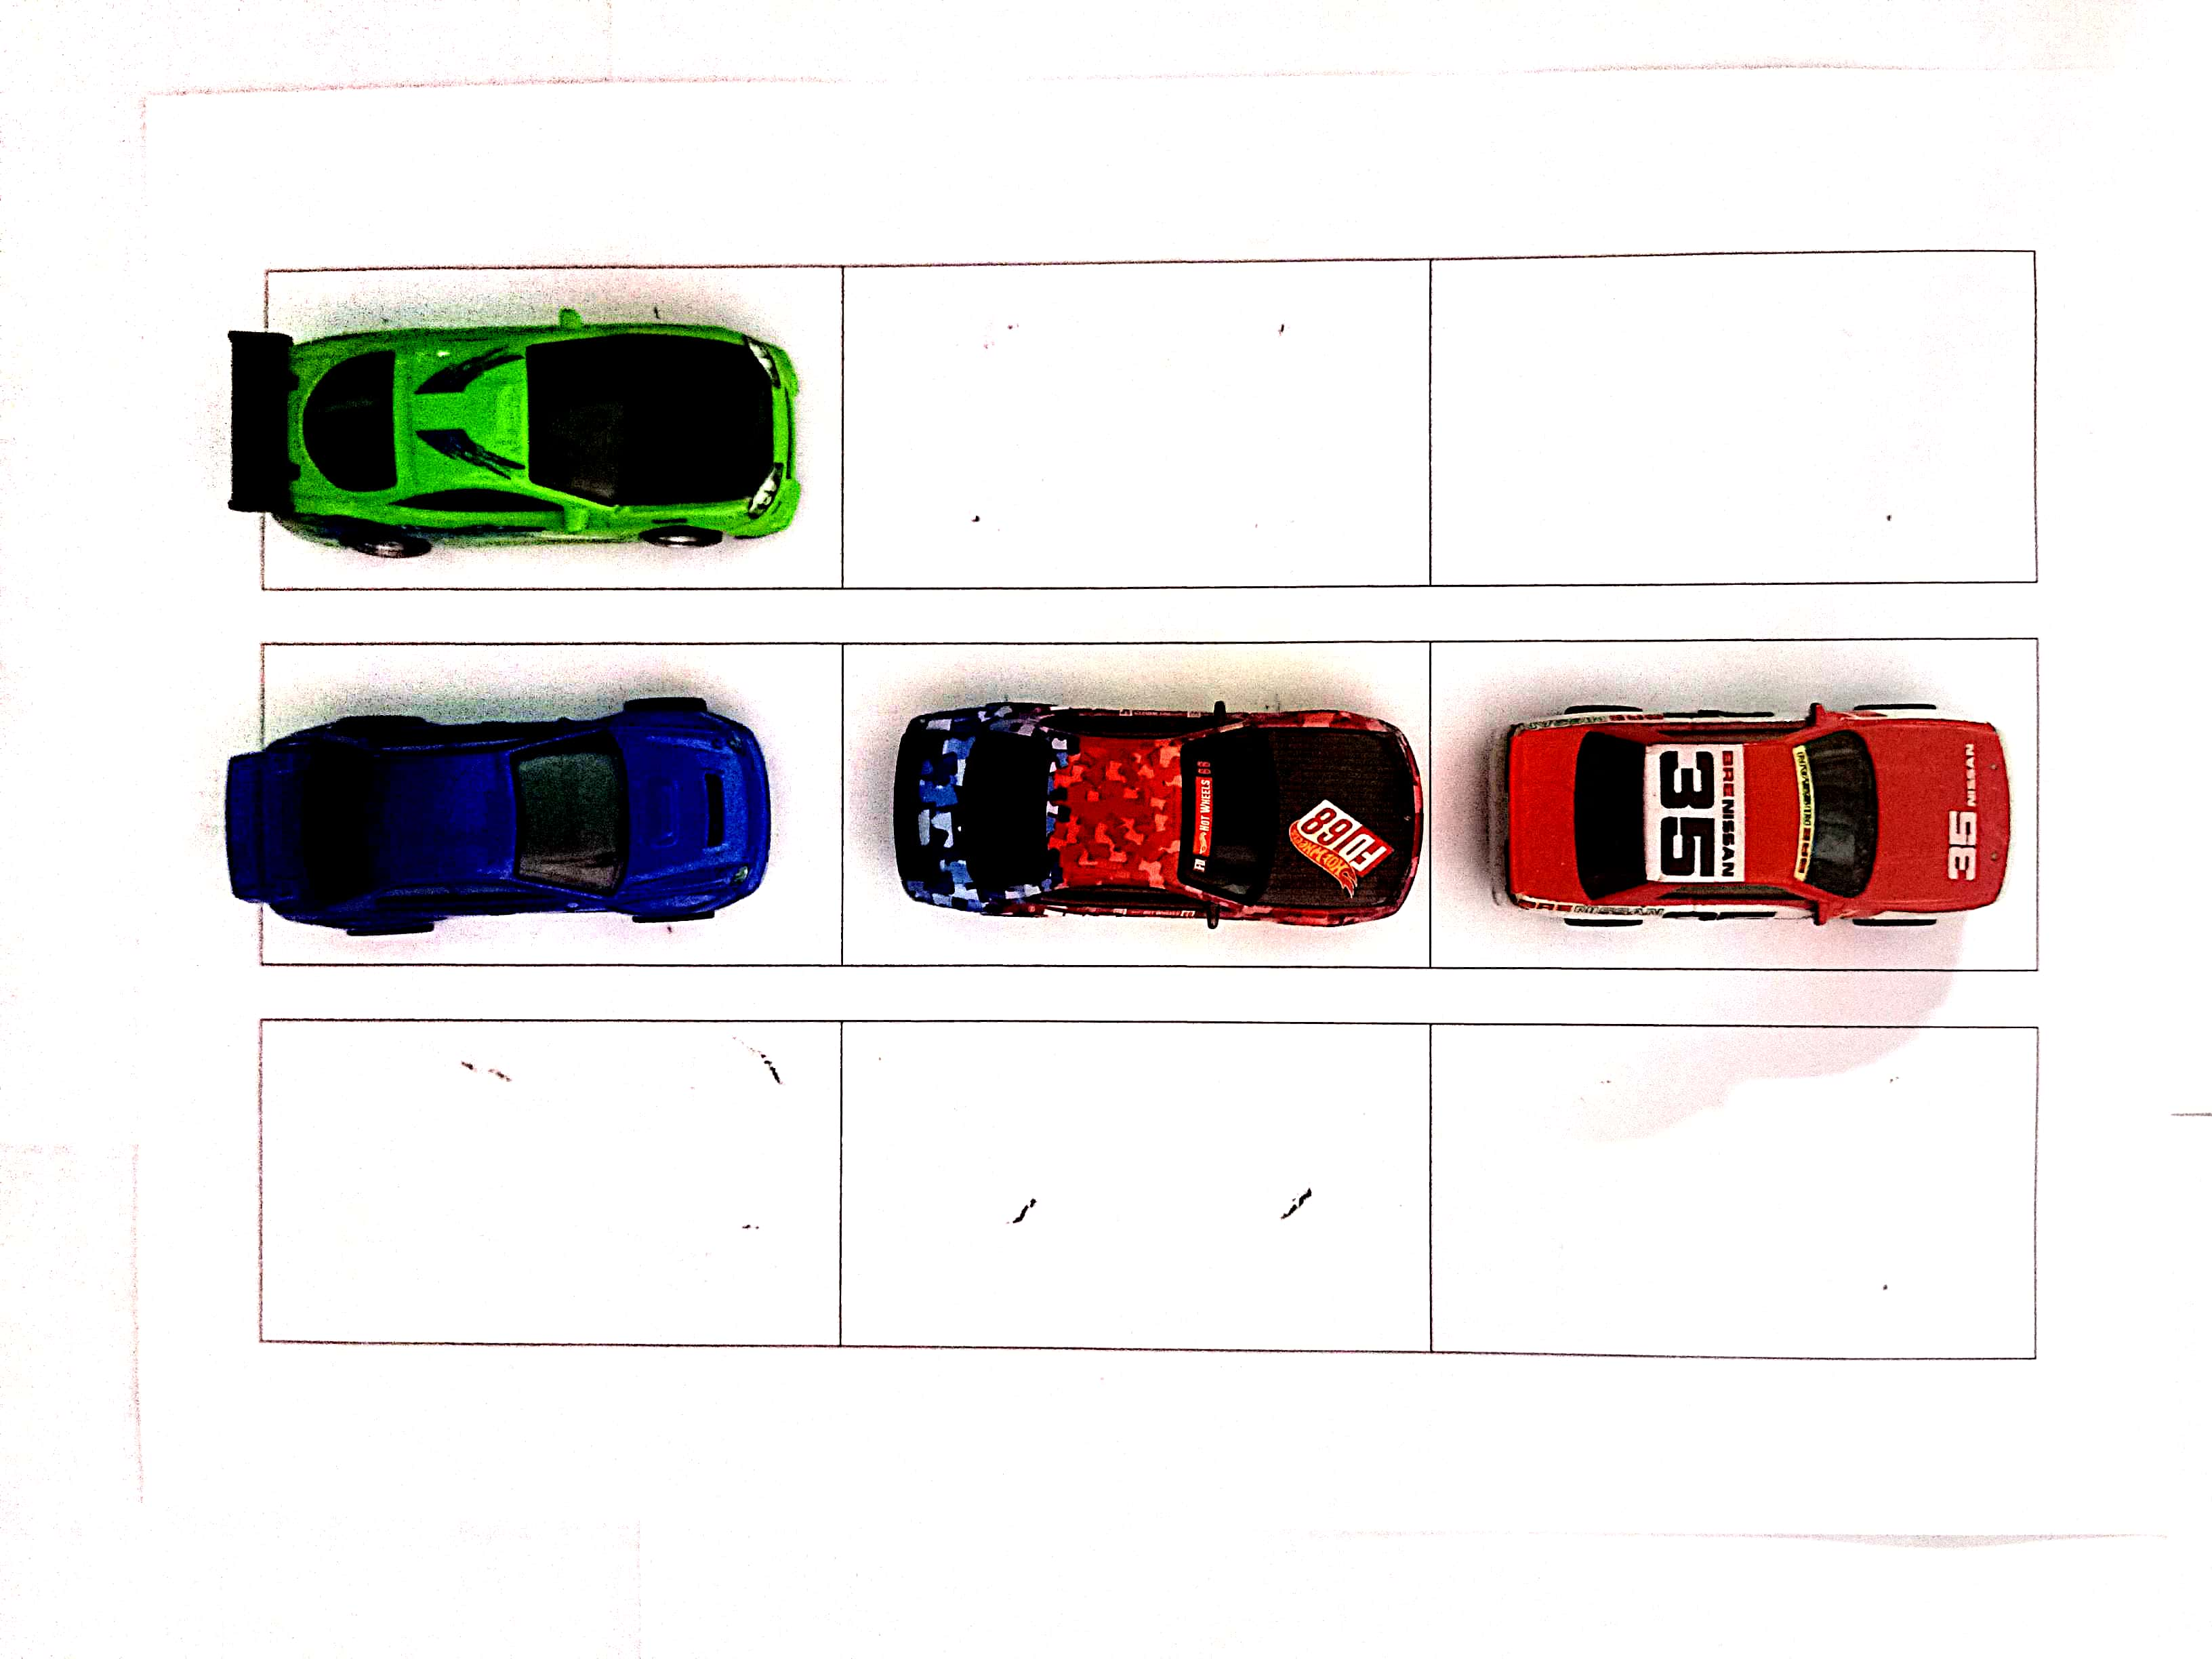Busy: (1423, 640, 2033, 964), (268, 640, 845, 967), (268, 270, 840, 593), (845, 645, 1423, 962)
Free: (1432, 249, 2033, 584), (1433, 1026, 2033, 1354), (843, 263, 1432, 586), (845, 1026, 1423, 1345), (265, 1026, 843, 1342)
